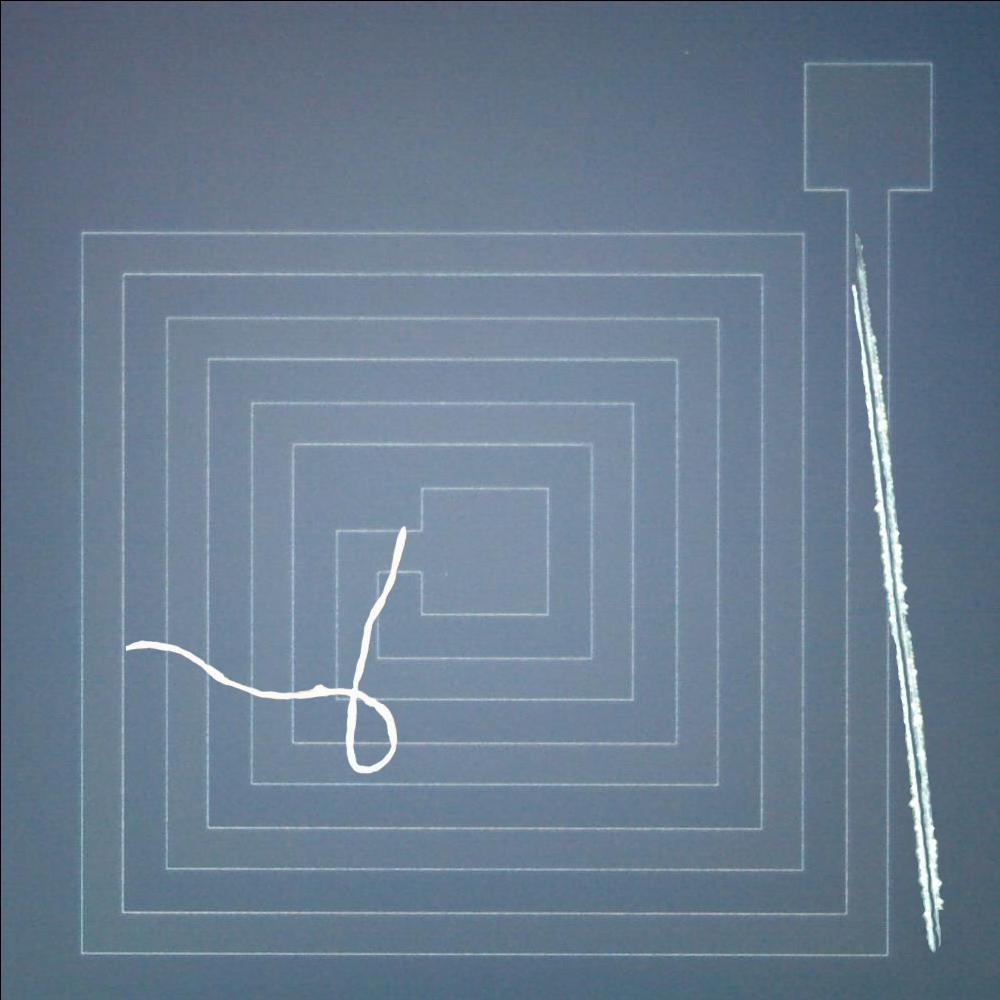line: (111, 518, 424, 788)
scratch: (834, 258, 954, 958)
